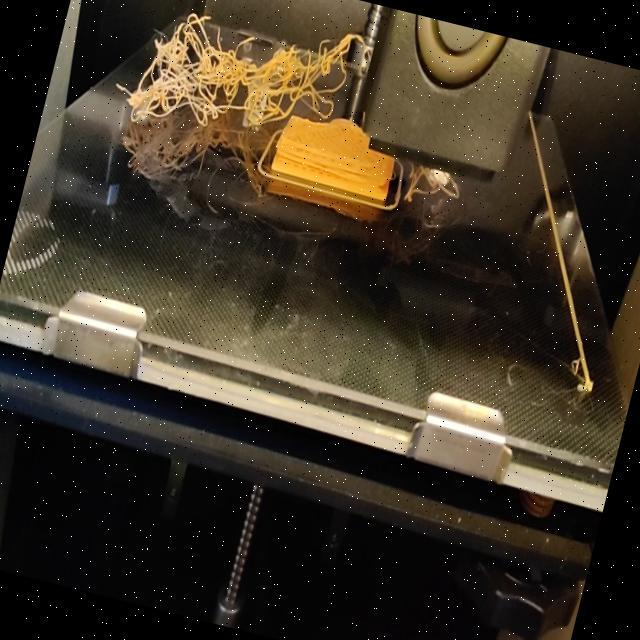spaghetti: (106, 0, 371, 170), (400, 163, 469, 212)
